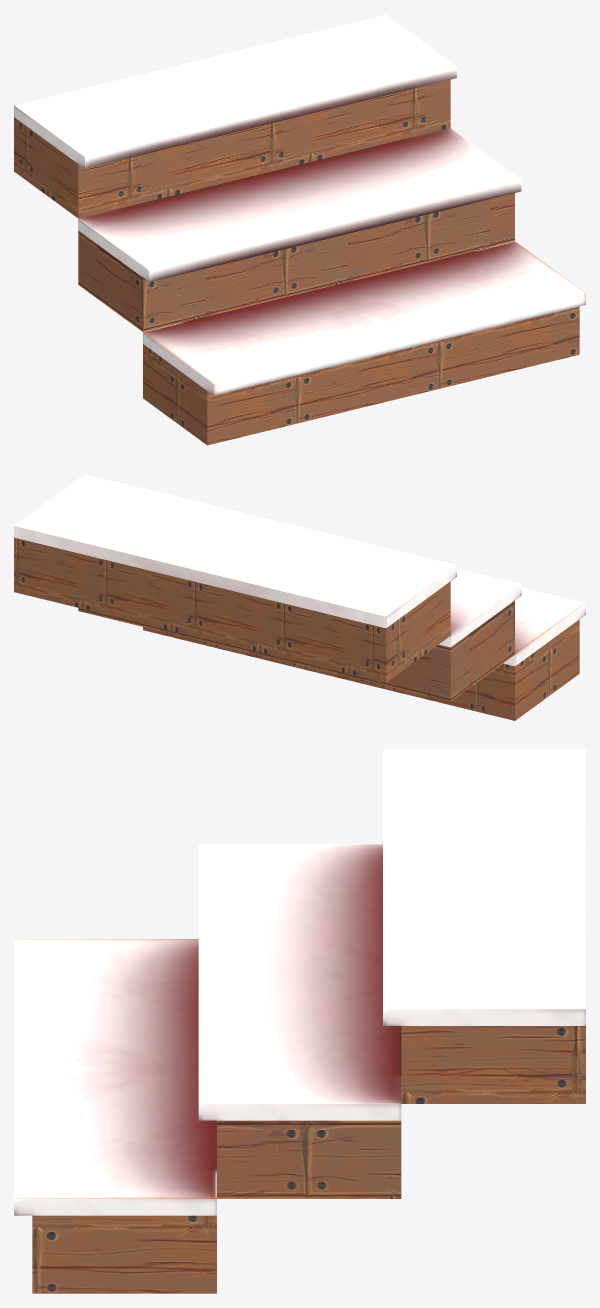
The picture shows the model from 3 angles, top to bottom: view 1: azimuth 30°, elevation 25°; view 2: azimuth 150°, elevation 25°; view 3: azimuth 270°, elevation 25°; orthographic projection. The views are drawn at different scales.
Visible parts, largest first — view 1: Stairs.004; view 2: Stairs.004; view 3: Stairs.004.
Boxes of the visible parts, x1,y1,x2,y2 form: Stairs.004: (14, 14, 585, 445); Stairs.004: (14, 474, 585, 720); Stairs.004: (14, 749, 585, 1293).
Size of what is drawn, in the model's own units: 2 by 1.02 by 1.86.
Materials: 2 (2 with a texture image).
